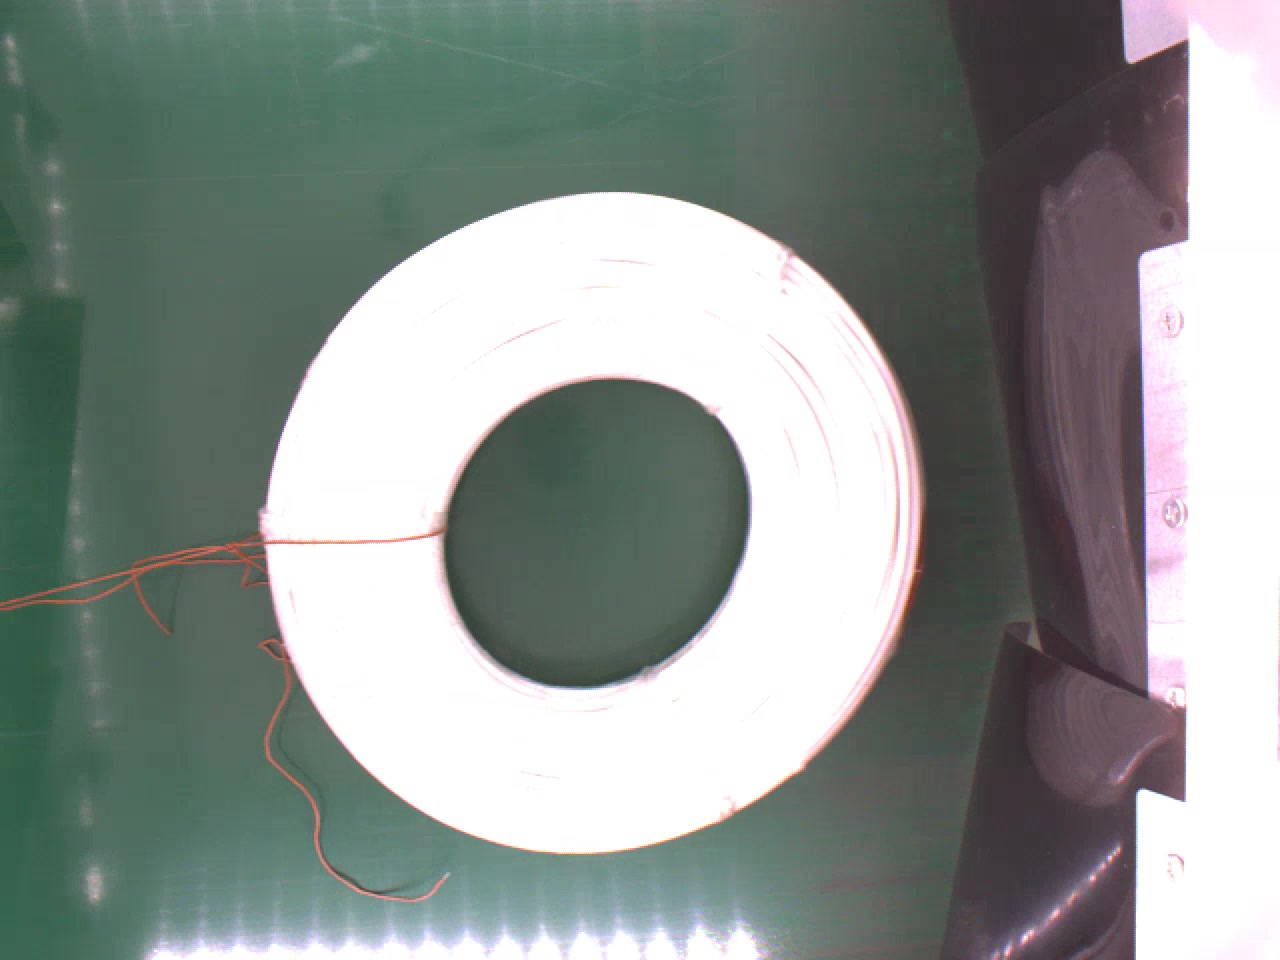white: (257, 185, 935, 856)
